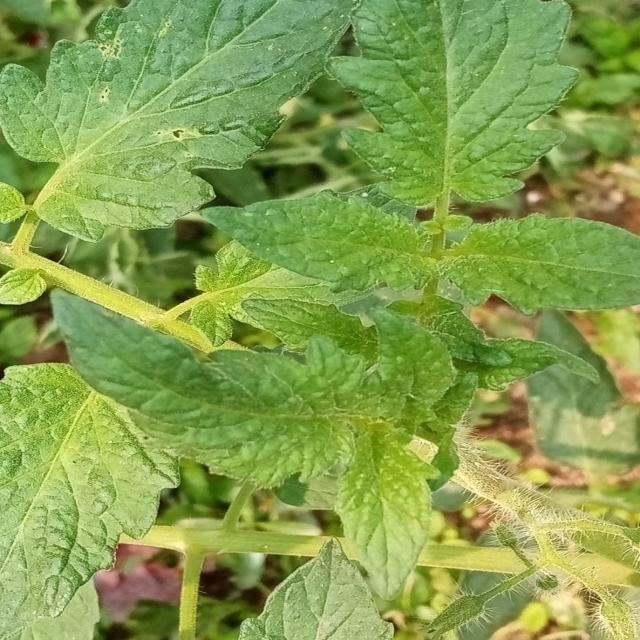Healthy: (29, 289, 370, 501), (330, 0, 574, 205), (0, 363, 179, 640), (203, 193, 435, 291), (439, 215, 639, 313), (327, 426, 437, 602)
